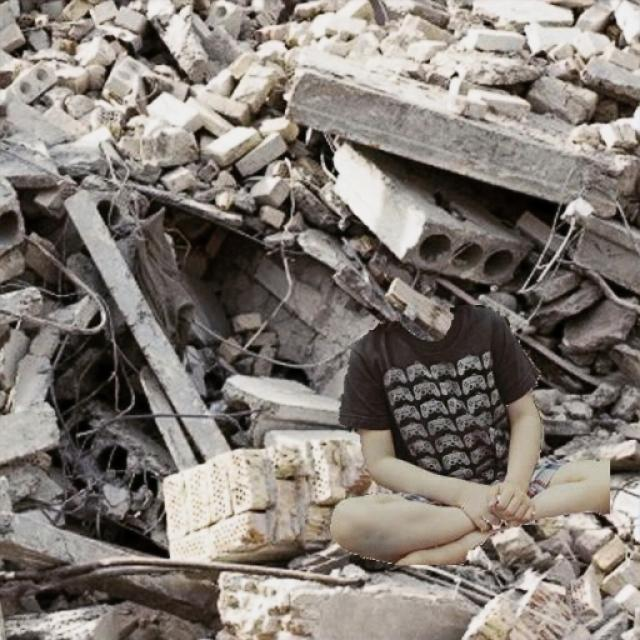Person in Rubble: (330, 305, 609, 564)
